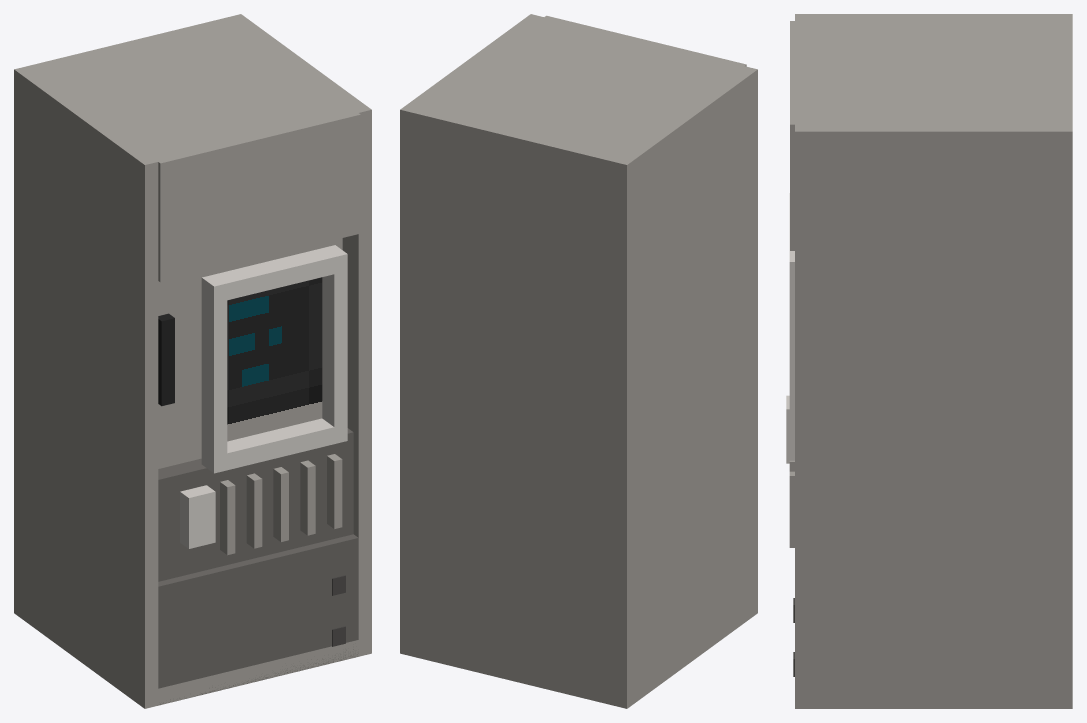
File: CMU3DRMCWhiteMPSComputerInheritedMiscCloud.glb
3 views of the same model, side by side, from view 1: azimuth 30°, elevation 25°; view 2: azimuth 150°, elevation 25°; view 3: azimuth 270°, elevation 25° (orthographic). The views are drawn at different scales.
Parts seen in each view (by area): view 1: full-depth left casing, single terminal upper hood, lower closed chassis, roof, single cyan CRT recessed glass source detail, lower ventilation bank, full-depth right casing, single terminal neck facade, single cyan CRT stepped bezel top, single cyan CRT stepped bezel left, single cyan CRT stepped bezel right, single cyan CRT stepped bezel bottom (+9 smaller); view 2: rear cabinet wall, full-depth left casing, roof, full-depth right casing, single terminal upper hood; view 3: full-depth right casing, roof, single terminal upper hood, rear cabinet wall, full-depth left casing, single cyan CRT stepped bezel right, open vent blade 29.
Boxes of the visible parts, x1,y1,x2,y2 form: full-depth left casing: [14, 66, 158, 708]; single terminal upper hood: [35, 23, 360, 282]; lower closed chassis: [158, 534, 358, 704]; roof: [34, 22, 356, 161]; single cyan CRT recessed glass source detail: [227, 277, 322, 441]; lower ventilation bank: [158, 428, 353, 581]; full-depth right casing: [228, 14, 371, 656]; single terminal neck facade: [158, 238, 342, 468]; single cyan CRT stepped bezel top: [201, 245, 347, 303]; single cyan CRT stepped bezel left: [201, 295, 227, 456]; single cyan CRT stepped bezel right: [322, 271, 347, 426]; single cyan CRT stepped bezel bottom: [201, 418, 347, 473]; rear cabinet wall: [413, 107, 621, 705]; full-depth left casing: [613, 66, 757, 708]; roof: [422, 17, 744, 156]; full-depth right casing: [400, 14, 543, 656]; single terminal upper hood: [427, 15, 746, 154]; full-depth right casing: [795, 124, 1072, 708]; roof: [795, 21, 1059, 124]; single terminal upper hood: [790, 21, 1056, 250]; rear cabinet wall: [1054, 21, 1072, 124]; full-depth left casing: [795, 14, 1072, 20]; single cyan CRT stepped bezel right: [789, 280, 794, 442]; open vent blade 29: [789, 471, 794, 547].
Size of the model in its own units: 0.5312 by 1.22 by 0.546.
Materials: 6 (1 with a texture image).
